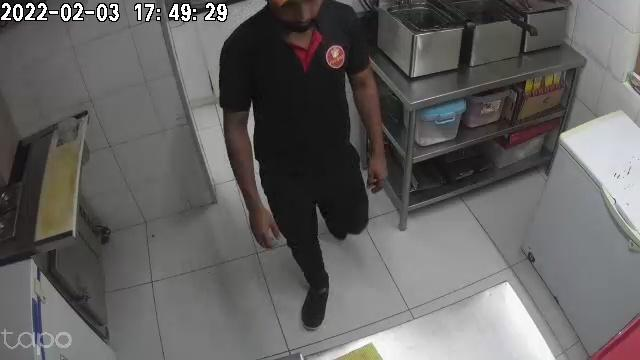no_gloves: (247, 193, 277, 249), (367, 147, 388, 194)
